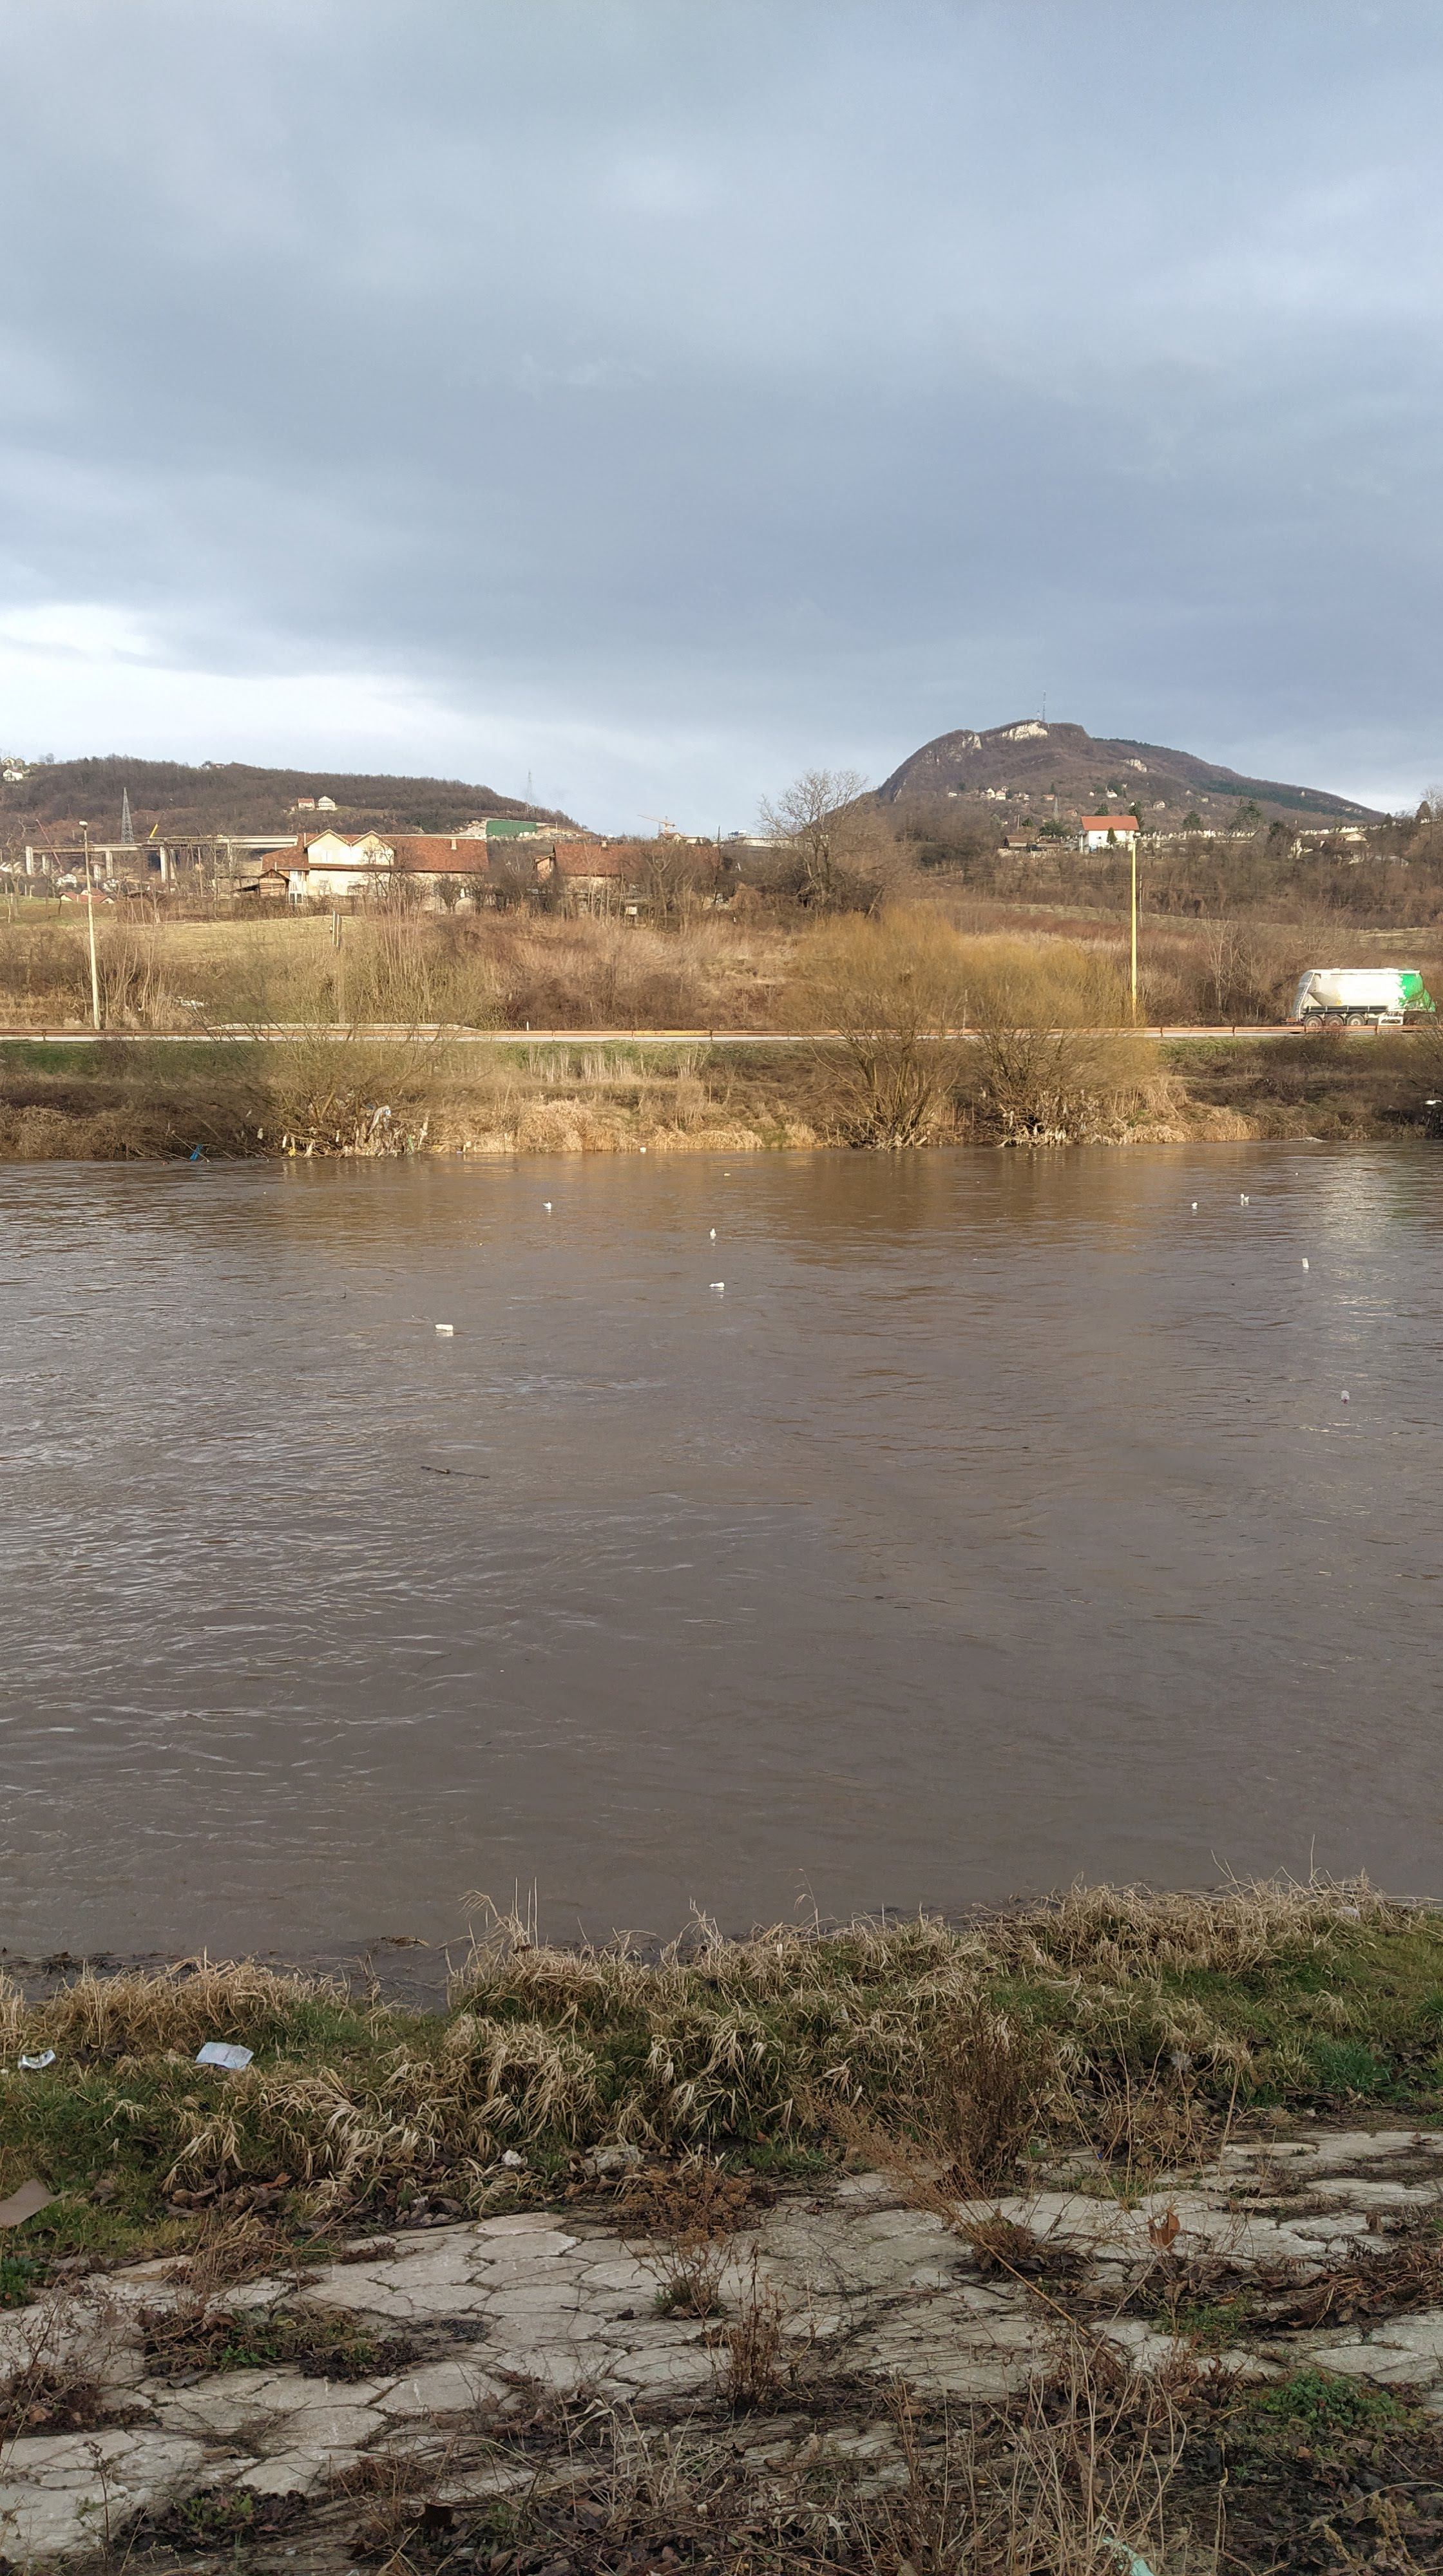Plastic Bottle: (436, 1323, 453, 1330), (710, 1281, 724, 1288), (1342, 1391, 1349, 1403), (1301, 1258, 1308, 1269), (724, 1173, 731, 1175)
